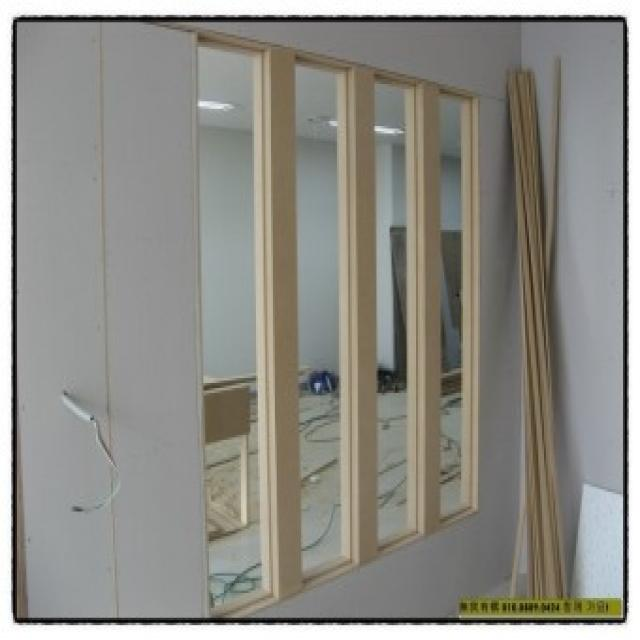stud: (196, 29, 478, 616)
wood: (506, 64, 569, 598)
